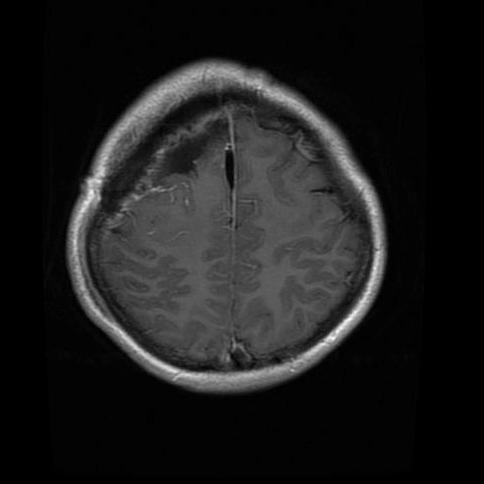Tumour-Glioma: (151, 117, 243, 181)
